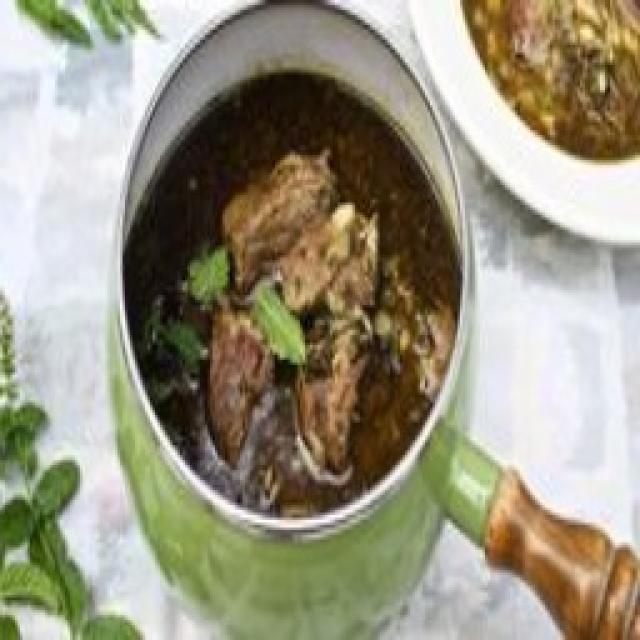Brik: (222, 150, 336, 292)
